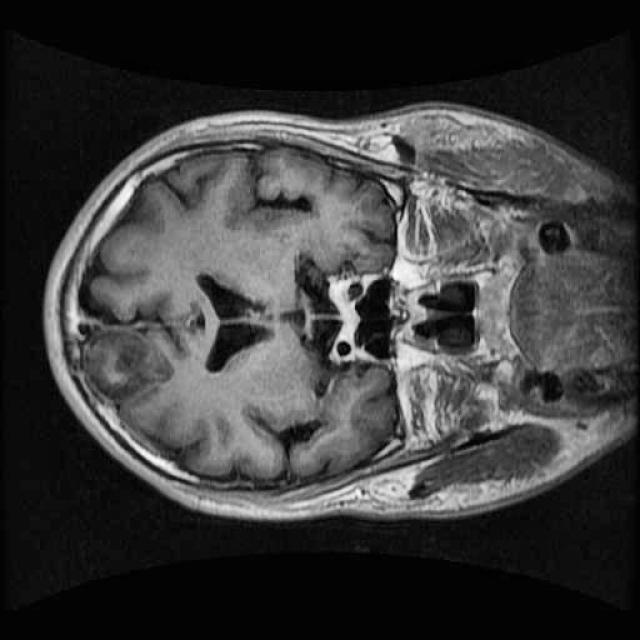Non-Tumor: (73, 309, 193, 420)
